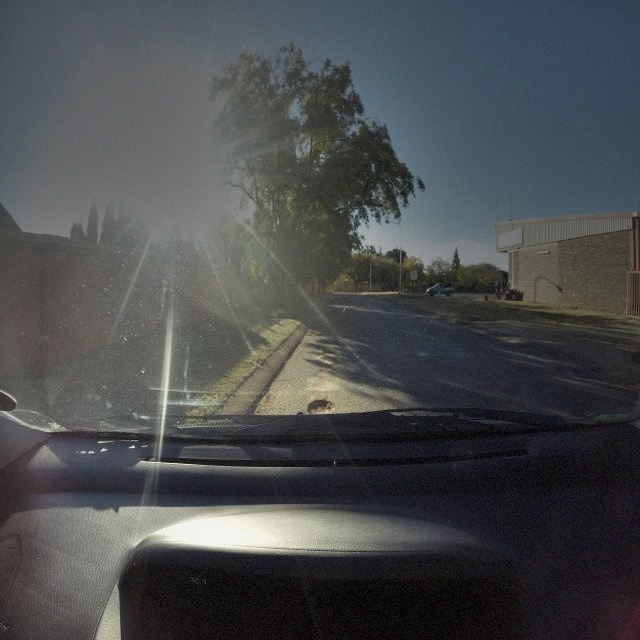pothole: (305, 396, 336, 414), (322, 347, 334, 358)
